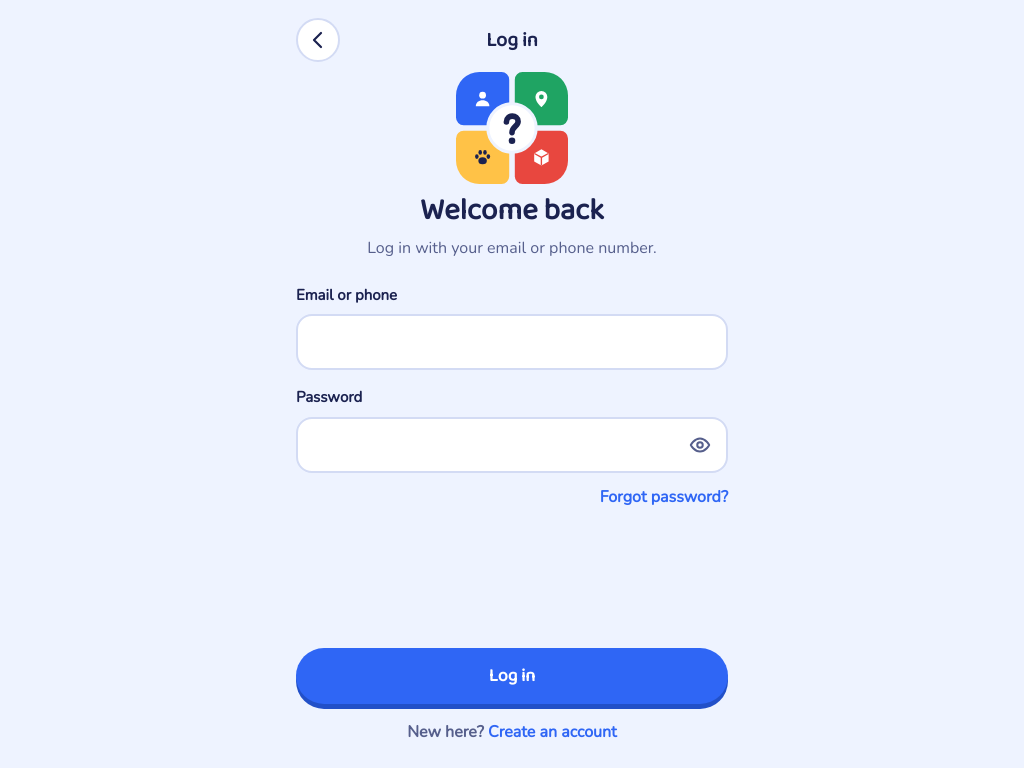
Test case: log in and log out › keeps the visitor on their way after logging in
The image size is (1024, 768).
Type "maya@example.com" into the field labelled "Email or phone" at (512, 342), box [296,314,728,370]
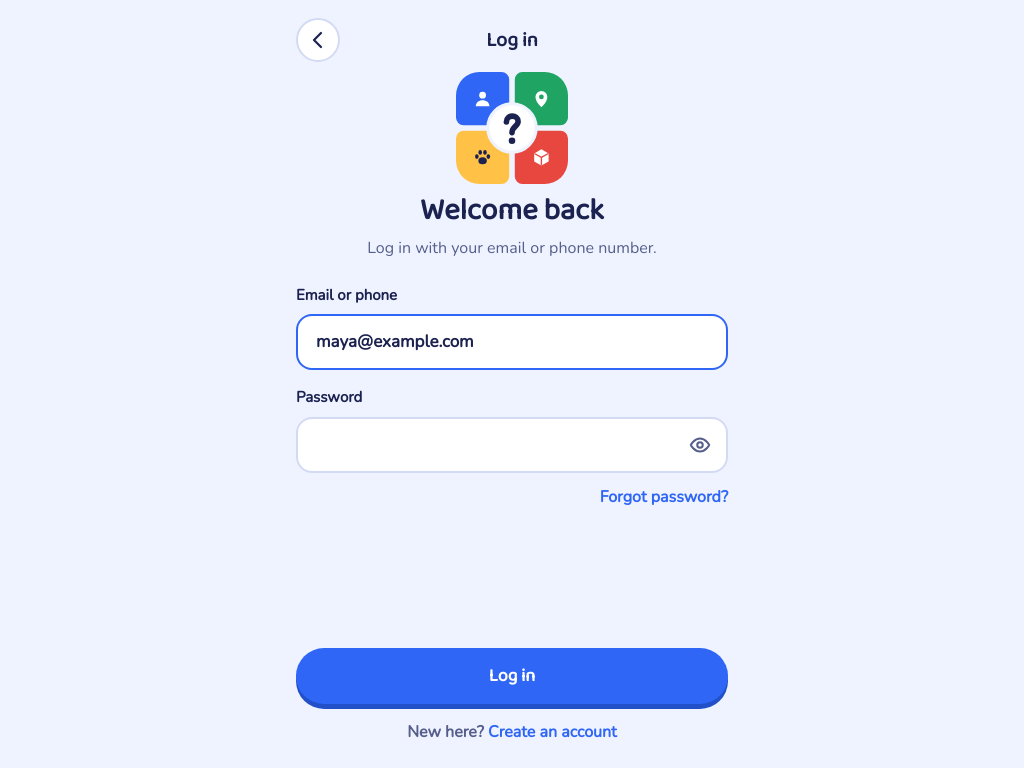
Type "Test1234" into the password field labelled "Password" at (512, 444), box [296,416,728,472]
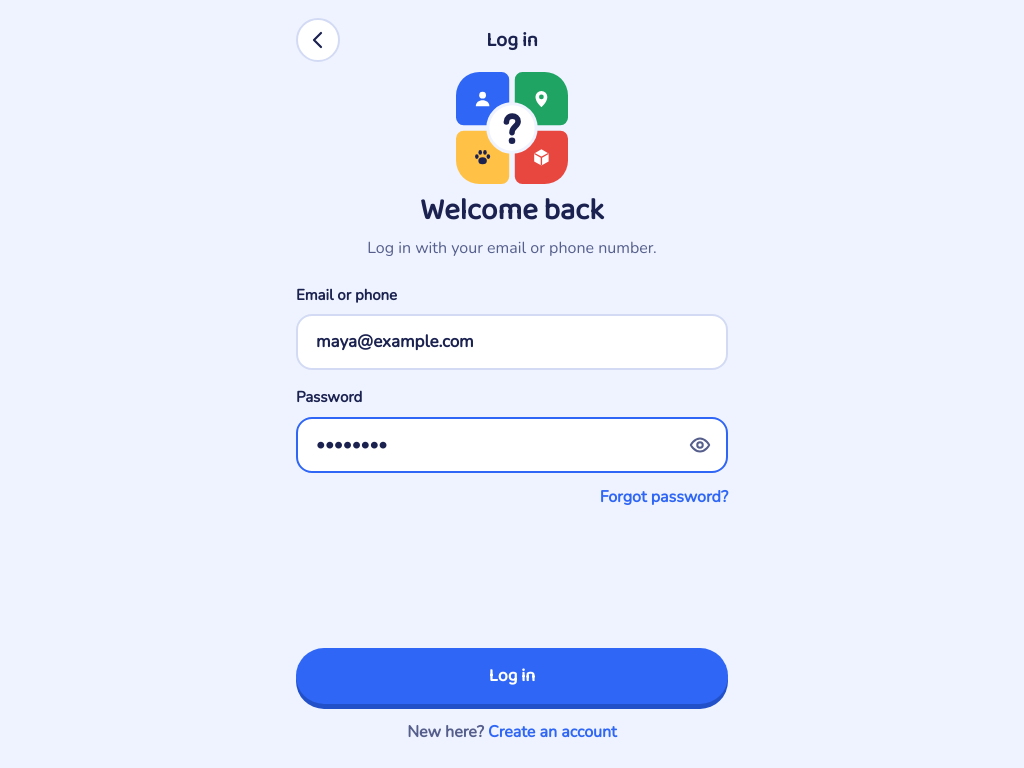
Click the button "Log in" at (512, 676), box [296,648,728,704]
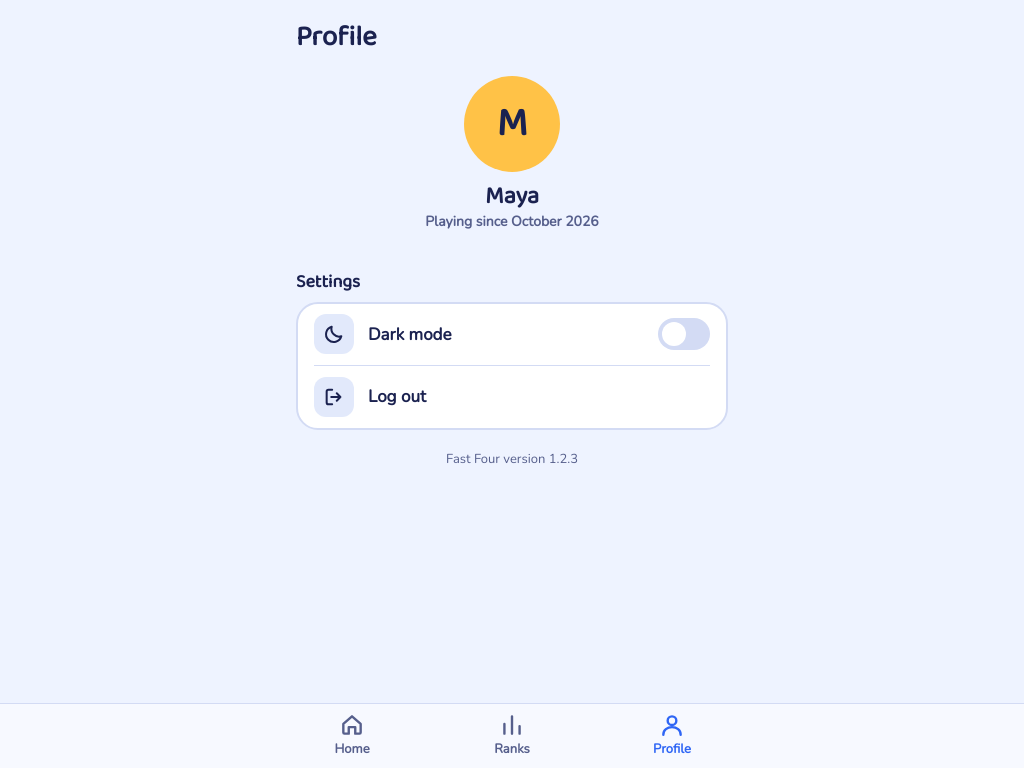
expect the text "Dark mode" is shown: met, box [368,322,452,346]
